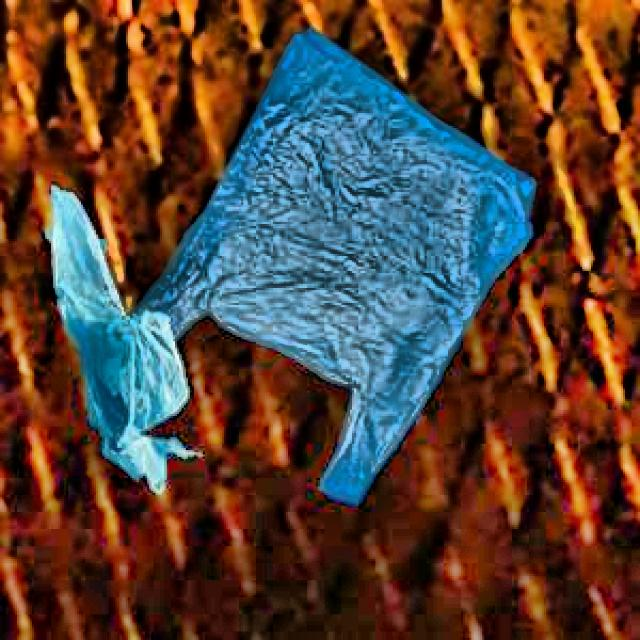Plastic: (114, 15, 552, 522), (35, 172, 206, 495)
